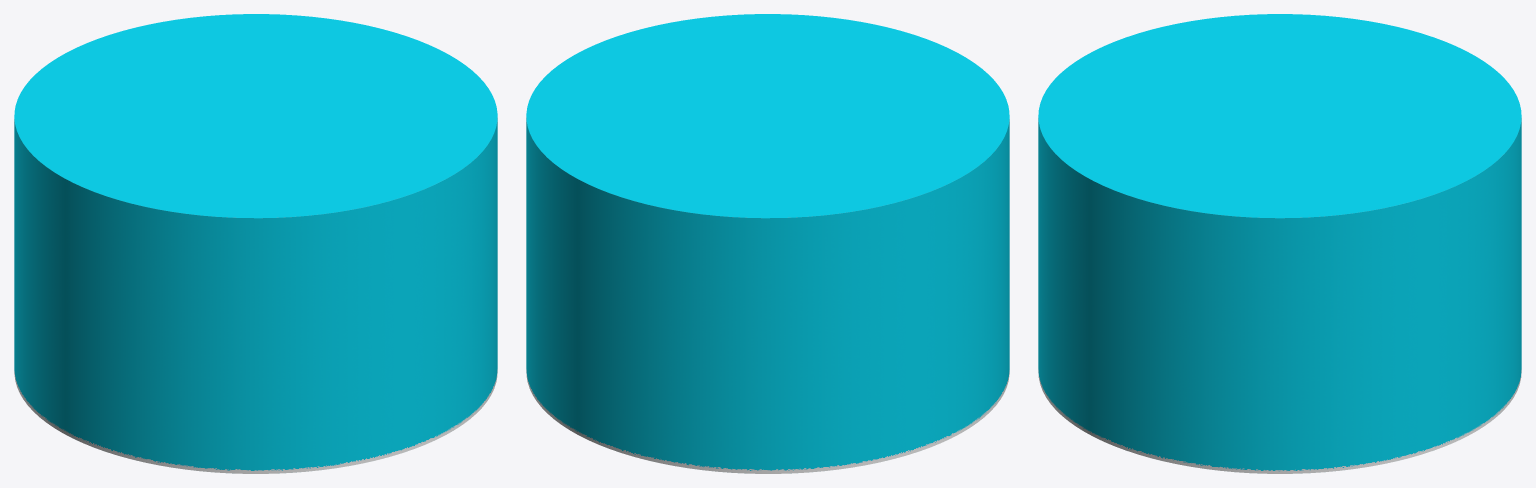
File: Ploshadka.FBX
The picture shows the model from 3 angles, left to right: view 1: azimuth 30°, elevation 25°; view 2: azimuth 150°, elevation 25°; view 3: azimuth 270°, elevation 25°; orthographic projection.
Parts seen in each view (by area): view 1: Cylinder001; view 2: Cylinder001; view 3: Cylinder001.
Part boxes in pixels (x1=…): Cylinder001: x1=14, y1=14, x2=497, y2=473; Cylinder001: x1=526, y1=14, x2=1009, y2=473; Cylinder001: x1=1038, y1=14, x2=1521, y2=473.
Bounding box in the file's own units: 305 × 178 × 305.
2 materials, 2 textured.
